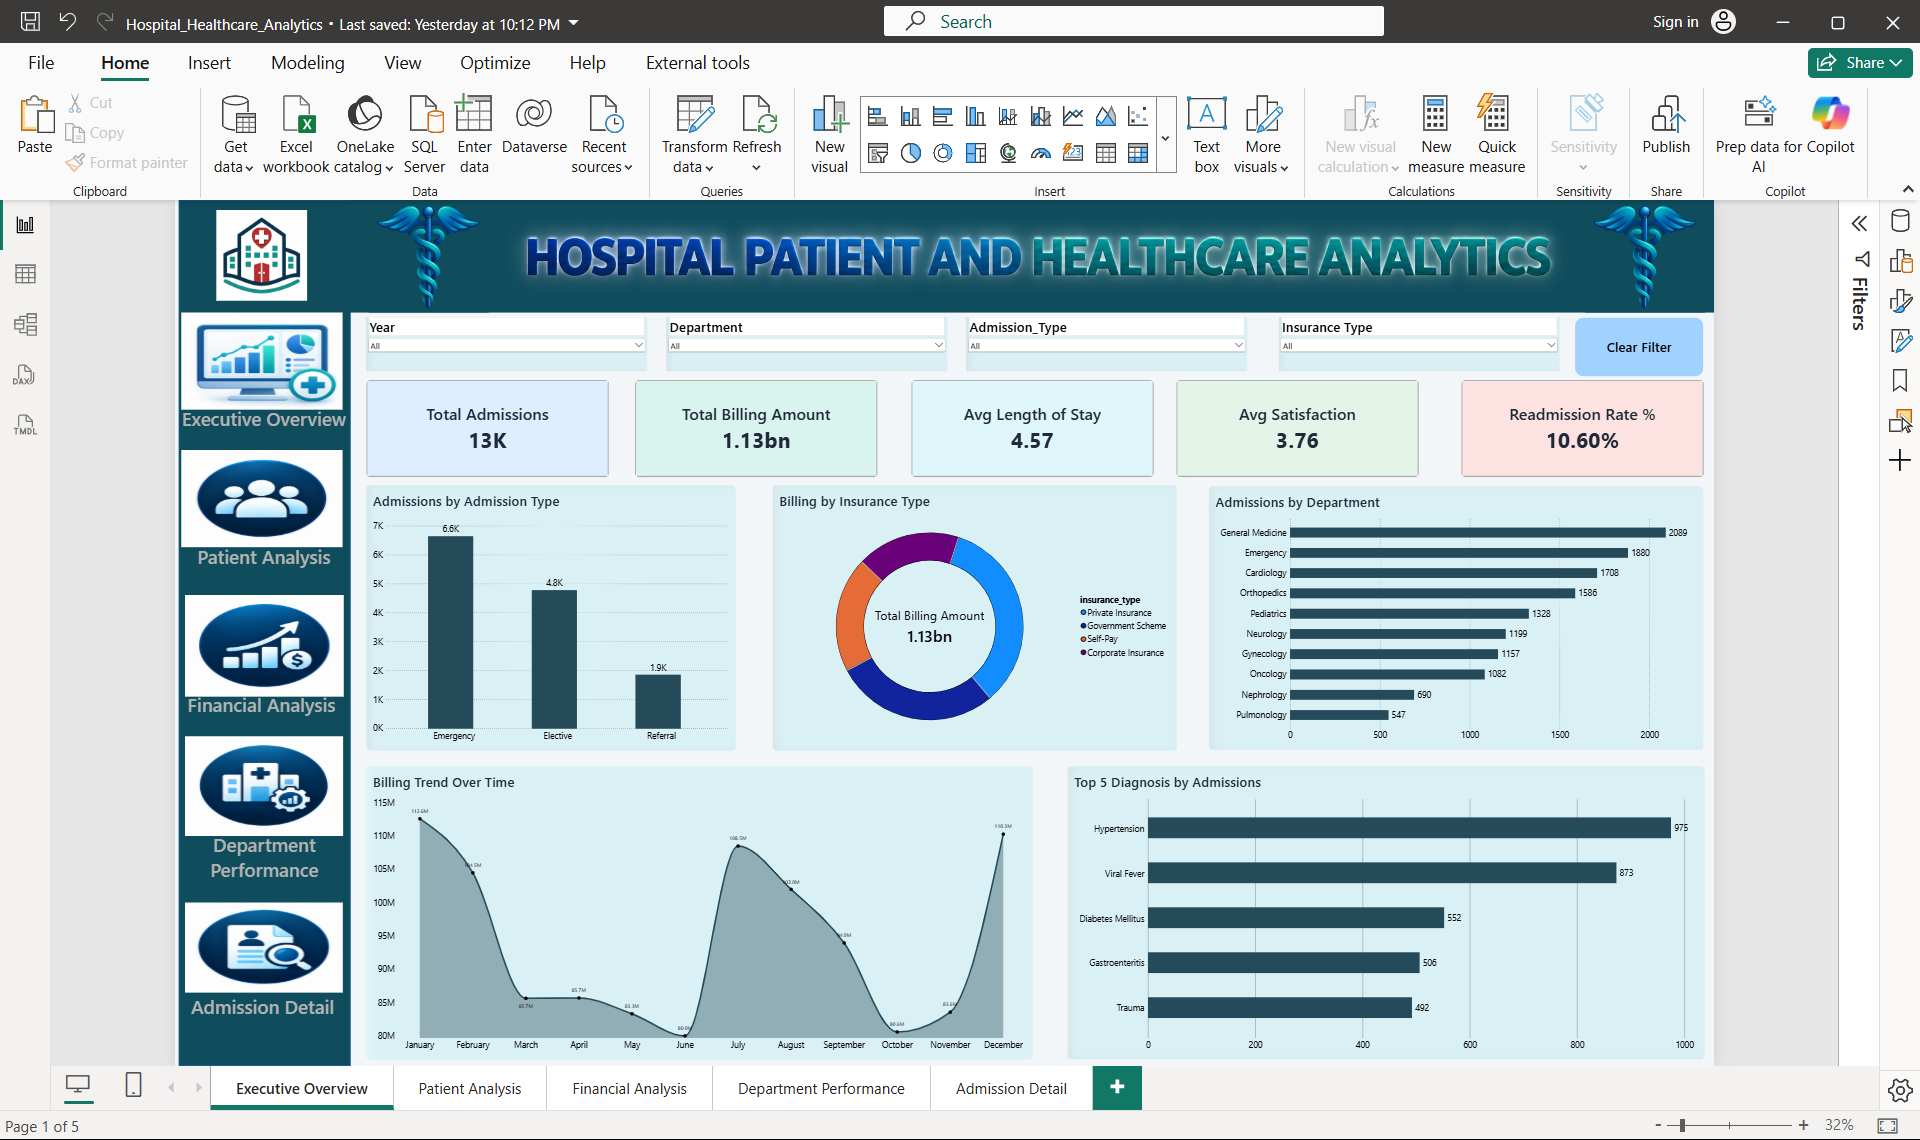

The page's visual inventory and layout, read from the dashboard file:
{"tool":"powerbi","page":{"name":"Executive Overview","canvas":[3840,2160],"ordinal":0},"visuals":[{"type":"image","box":[15.9,281.3,402.5,242.4],"z":0,"group":"g5"},{"type":"cardVisual","title":"Total Revenue","fields":{"Data":["hospital_admissions_cleaned.Total Admissions"]},"box":[476.1,450.1,606,242.4],"z":0},{"type":"image","box":[15.9,622.1,402.5,242.4],"z":0,"group":"g1"},{"type":"image","box":[23,986.4,396.1,253.4],"z":0,"group":"g2"},{"type":"image","box":[26,1338.4,394.4,248.6],"z":0,"group":"g3"},{"type":"image","box":[26,1751.9,393.9,225.1],"z":0,"group":"g4"},{"type":"actionButton","box":[4.3,282.5,437.2,303],"z":1000,"group":"g5"},{"type":"cardVisual","title":"Total Revenue","fields":{"Data":["hospital_admissions_cleaned.Total Billing Amount"]},"box":[1147,450.1,606,242.4],"z":1000},{"type":"actionButton","box":[4.3,623.3,437.2,303],"z":1000,"group":"g1"},{"type":"actionButton","box":[-4.3,982.5,437.2,316],"z":1000,"group":"g2"},{"type":"actionButton","box":[0,1320.1,445.8,389.5],"z":1000,"group":"g3"},{"type":"actionButton","box":[0,1731.3,437.2,320.3],"z":1000,"group":"g4"},{"type":"cardVisual","title":"Total Revenue","fields":{"Data":["hospital_admissions_cleaned.Avg Satisfaction"]},"box":[2497.4,450.1,606,242.4],"z":2000},{"type":"cardVisual","title":"Total Revenue","fields":{"Data":["hospital_admissions_cleaned.Avg Length of Stay"]},"box":[1835.2,450.1,606,242.4],"z":3000},{"type":"cardVisual","title":"Total Revenue","fields":{"Data":["hospital_admissions_cleaned.Readmission Rate %"]},"box":[3207.3,450.1,606,242.4],"z":4000},{"type":"lineChart","title":"Billing Trend Over Time","fields":{"Category":["hospital_admissions_cleaned.admission_date.Variation.Date Hierarchy.Month"],"Y":["hospital_admissions_cleaned.Total Billing Amount"]},"box":[476.1,1411,1662.1,731.5],"z":5000},{"type":"clusteredBarChart","title":"Admissions by Department","fields":{"Category":["hospital_admissions_cleaned.department"],"Y":["hospital_admissions_cleaned.Total Admissions"]},"box":[2579.7,714.2,1233.6,657.9],"z":6000},{"type":"clusteredBarChart","title":"Top 5 Diagnosis by Admissions","fields":{"Category":["hospital_admissions_cleaned.diagnosis"],"Y":["hospital_admissions_cleaned.Total Admissions"]},"box":[2224.7,1411,1588.5,731.5],"z":7000},{"type":"donutChart","title":"Billing by Insurance Type","fields":{"Y":["hospital_admissions_cleaned.Total Billing Amount","hospital_admissions_cleaned.Total Admissions"],"Category":["hospital_admissions_cleaned.insurance_type"]},"box":[1488.9,709.8,1008.5,662.2],"z":8000},{"type":"clusteredColumnChart","title":"Admissions by Admission Type","fields":{"Y":["hospital_admissions_cleaned.Total Admissions"],"Category":["hospital_admissions_cleaned.admission_type"]},"box":[476.1,709.8,921.9,662.2],"z":9000},{"type":"shape","box":[8.7,0,428.5,2159.8],"z":10000},{"type":"textbox","box":[437.2,0,3402,281],"z":11000},{"type":"group","id":"g1","title":"Group 2","box":[4.3,622.1,437.2,304.2],"z":12000},{"type":"group","id":"g2","title":"Group 3","box":[-4.3,982.5,437.2,316],"z":13000},{"type":"group","id":"g3","title":"Group 4","box":[0,1320.1,445.8,389.5],"z":14000},{"type":"actionButton","box":[3492.9,294.3,320.3,147.2],"z":15000},{"type":"slicer","fields":{"Values":["hospital_admissions_cleaned.insurance_type"]},"box":[2752.8,294.3,701.2,134.2],"z":16000},{"type":"slicer","fields":{"Values":["hospital_admissions_cleaned.admission_type"]},"box":[1973.7,294.3,701.2,134.2],"z":17000},{"type":"slicer","fields":{"Values":["hospital_admissions_cleaned.department"]},"box":[1224.9,294.3,701.2,134.2],"z":18000},{"type":"slicer","fields":{"Values":["hospital_admissions_cleaned.admission_date.Variation.Date Hierarchy.Year"]},"box":[476.1,294.3,701.2,134.2],"z":19000},{"type":"group","id":"g4","title":"Group 5","box":[0,1731.3,437.2,320.3],"z":20000},{"type":"group","id":"g5","title":"Group 1","box":[4.3,281.3,437.2,303],"z":21000},{"type":"image","box":[64.7,25.2,302,226.5],"z":21001},{"type":"image","box":[827,25.2,2653.5,226.5],"z":21002},{"type":"image","box":[481.8,0,298.4,280.4],"z":21003},{"type":"image","box":[3516.4,0,298.4,280.4],"z":21004}]}

Visuals, with their boxes on the page's 3840x2160 design canvas (x1, y1, x2, y2). These are canvas units, not pixel positions in the 1920x1140 screenshot, which may show the page scaled, cropped or inside an application window:
image: detection(16, 281, 418, 524)
"Total Revenue" cardVisual: detection(476, 450, 1082, 692)
image: detection(16, 622, 418, 864)
image: detection(23, 986, 419, 1240)
image: detection(26, 1338, 420, 1587)
image: detection(26, 1752, 420, 1977)
actionButton: detection(4, 282, 442, 586)
"Total Revenue" cardVisual: detection(1147, 450, 1753, 692)
actionButton: detection(4, 623, 442, 926)
actionButton: detection(-4, 982, 433, 1298)
actionButton: detection(0, 1320, 446, 1710)
actionButton: detection(0, 1731, 437, 2052)
"Total Revenue" cardVisual: detection(2497, 450, 3103, 692)
"Total Revenue" cardVisual: detection(1835, 450, 2441, 692)
"Total Revenue" cardVisual: detection(3207, 450, 3813, 692)
"Billing Trend Over Time" lineChart: detection(476, 1411, 2138, 2142)
"Admissions by Department" clusteredBarChart: detection(2580, 714, 3813, 1372)
"Top 5 Diagnosis by Admissions" clusteredBarChart: detection(2225, 1411, 3813, 2142)
"Billing by Insurance Type" donutChart: detection(1489, 710, 2497, 1372)
"Admissions by Admission Type" clusteredColumnChart: detection(476, 710, 1398, 1372)
shape: detection(9, 0, 437, 2160)
textbox: detection(437, 0, 3839, 281)
"Group 2" group: detection(4, 622, 442, 926)
"Group 3" group: detection(-4, 982, 433, 1298)
"Group 4" group: detection(0, 1320, 446, 1710)
actionButton: detection(3493, 294, 3813, 442)
slicer - hospital_admissions_cleaned.insurance_type: detection(2753, 294, 3454, 428)
slicer - hospital_admissions_cleaned.admission_type: detection(1974, 294, 2675, 428)
slicer - hospital_admissions_cleaned.department: detection(1225, 294, 1926, 428)
slicer - hospital_admissions_cleaned.admission_date.Variation.Date Hierarchy.Year: detection(476, 294, 1177, 428)
"Group 5" group: detection(0, 1731, 437, 2052)
"Group 1" group: detection(4, 281, 442, 584)
image: detection(65, 25, 367, 252)
image: detection(827, 25, 3480, 252)
image: detection(482, 0, 780, 280)
image: detection(3516, 0, 3815, 280)
